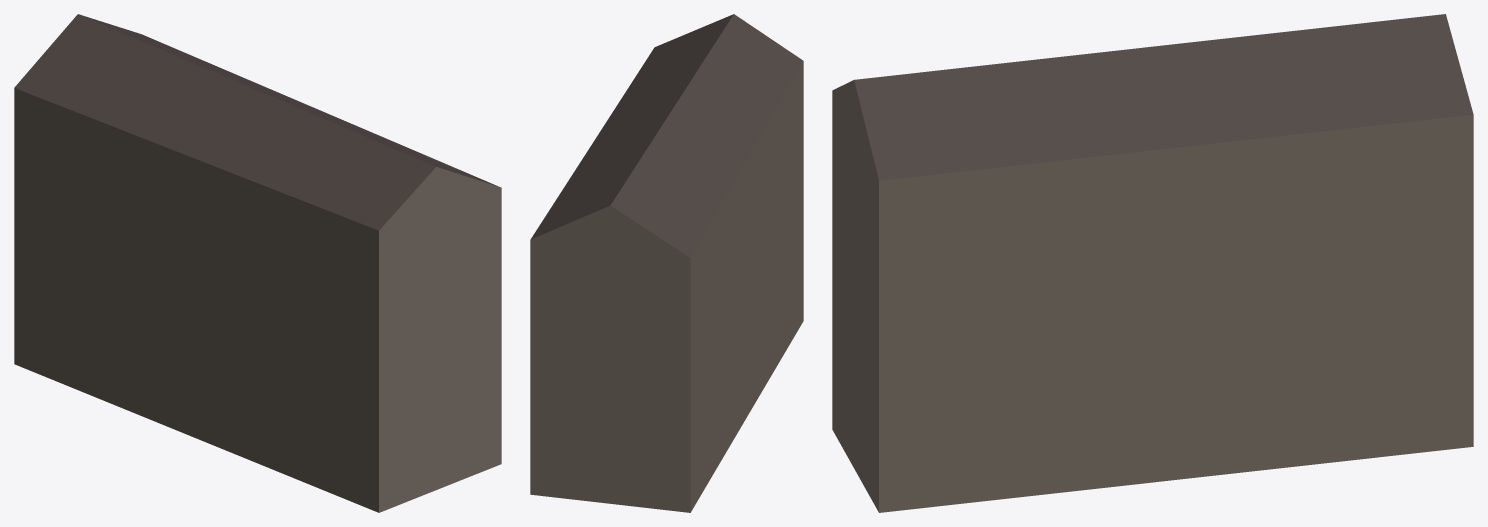
The picture shows the model from 3 angles, left to right: view 1: azimuth 30°, elevation 25°; view 2: azimuth 150°, elevation 25°; view 3: azimuth 270°, elevation 25°; orthographic projection. The views are drawn at different scales.
Parts seen in each view (by area): view 1: HP-w776801016; view 2: HP-w776801016; view 3: HP-w776801016.
Boxes of the visible parts, x1,y1,x2,y2 form: HP-w776801016: (14,14,501,512); HP-w776801016: (530,14,803,512); HP-w776801016: (832,14,1473,512).
Size of the model in its own units: 5.98 by 7.02 by 10.5.
